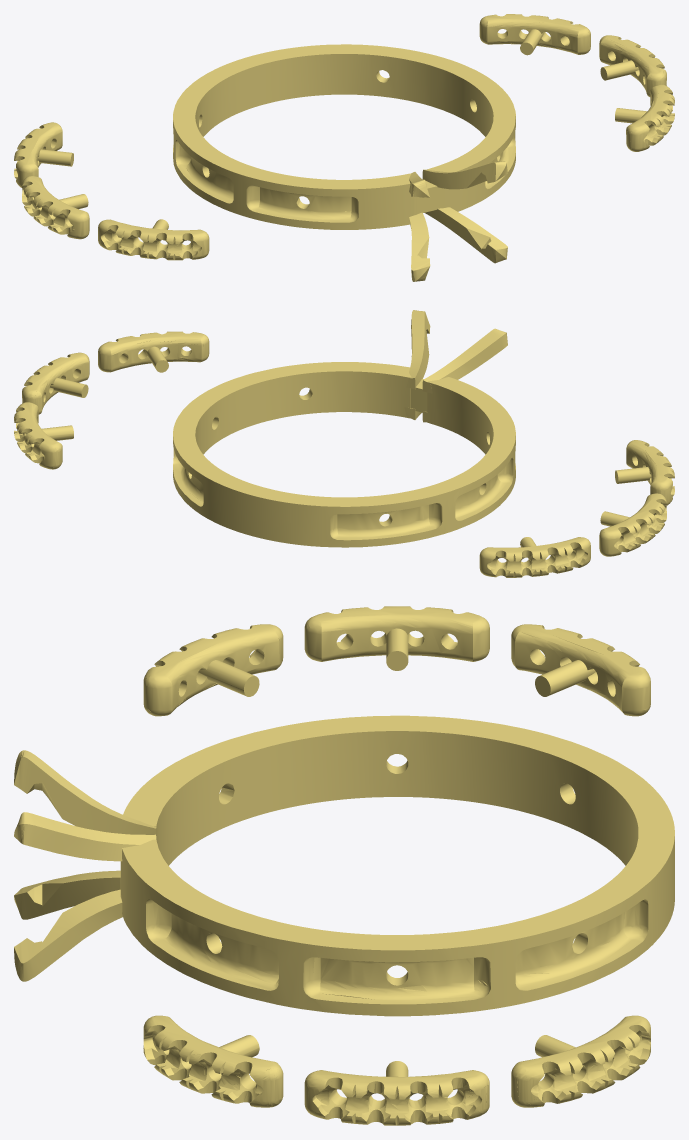
The picture shows the model from 3 angles, top to bottom: view 1: azimuth 30°, elevation 25°; view 2: azimuth 150°, elevation 25°; view 3: azimuth 270°, elevation 25°; orthographic projection. The views are drawn at different scales.
Visible parts, largest first — view 1: lr-0039; view 2: lr-0039; view 3: lr-0039.
Part boxes in pixels (x1,y1,x2,y2): lr-0039: (14,14,674,281); lr-0039: (14,310,674,577); lr-0039: (14,606,674,1125).
Size of the model in its own units: 1 by 0.1562 by 0.5743.
